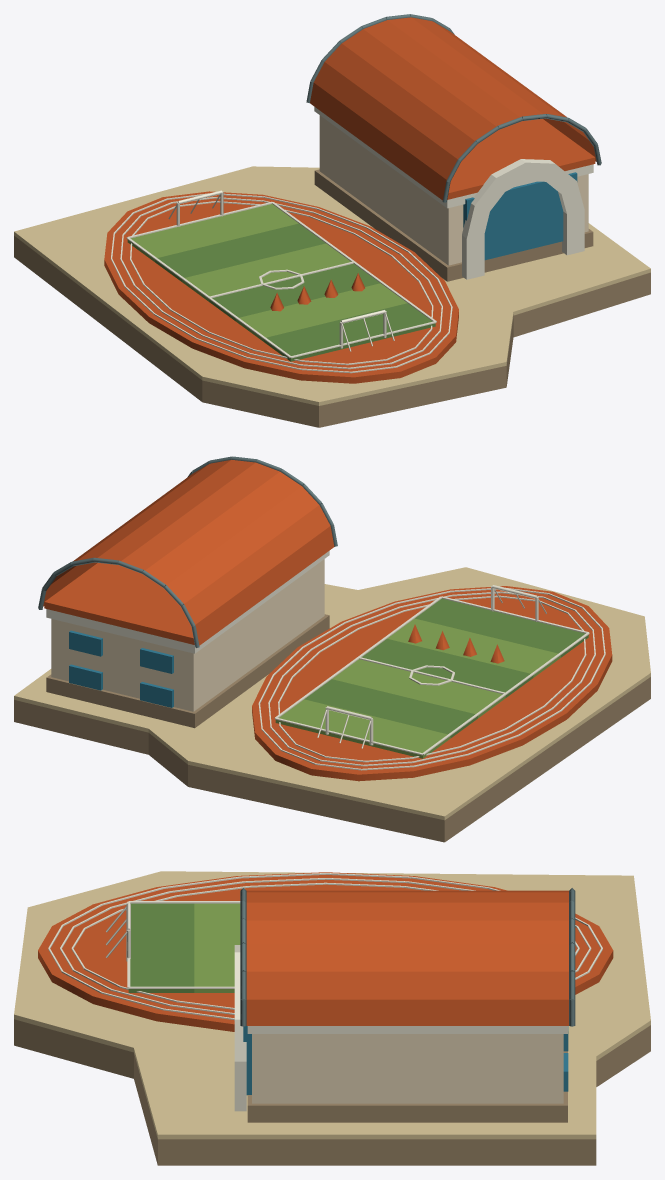
File: training-center-lv1.glb
The picture shows the model from 3 angles, top to bottom: view 1: azimuth 30°, elevation 25°; view 2: azimuth 150°, elevation 25°; view 3: azimuth 270°, elevation 25°; orthographic projection. The views are drawn at different scales.
Parts seen in each view (by area): view 1: foundation_sand, gym_barrel_roof_orange, running_track_orange, foundation_stoneDark, pitch_grassLight, pitch_grass, training_hall_cream, gym_front_arch_white, training_hall_roof_orange, running_lanes_white, gym_front_glass, training_hall_stoneDark (+5 smaller); view 2: foundation_sand, gym_barrel_roof_orange, running_track_orange, foundation_stoneDark, training_hall_cream, pitch_grass, pitch_grassLight, training_hall_roof_orange, running_lanes_white, training_hall_stoneDark, pitch_lines_white, training_hall_windows_glass (+4 smaller); view 3: gym_barrel_roof_orange, foundation_sand, training_hall_cream, foundation_stoneDark, running_track_orange, training_hall_stoneDark, pitch_grass, running_lanes_white, pitch_grassLight, training_hall_white, gym_barrel_roof_ribs_iron, gym_front_arch_white (+3 smaller).
Boxes of the visible parts, left/top/right/bottom form: foundation_sand: left=14, top=166, right=650, bottom=405; gym_barrel_roof_orange: left=310, top=17, right=596, bottom=200; running_track_orange: left=104, top=191, right=458, bottom=383; foundation_stoneDark: left=14, top=235, right=650, bottom=427; pitch_grassLight: left=127, top=204, right=407, bottom=341; pitch_grass: left=155, top=223, right=435, bottom=361; training_hall_cream: left=319, top=115, right=588, bottom=265; gym_front_arch_white: left=462, top=159, right=584, bottom=279; training_hall_roof_orange: left=447, top=119, right=595, bottom=199; running_lanes_white: left=110, top=193, right=452, bottom=373; gym_front_glass: left=463, top=172, right=577, bottom=260; training_hall_stoneDark: left=314, top=169, right=593, bottom=281; foundation_sand: left=14, top=567, right=650, bottom=820; gym_barrel_roof_orange: left=43, top=459, right=334, bottom=645; running_track_orange: left=252, top=586, right=612, bottom=781; foundation_stoneDark: left=14, top=677, right=650, bottom=842; training_hall_cream: left=51, top=559, right=324, bottom=711; pitch_grass: left=304, top=598, right=588, bottom=737; pitch_grassLight: left=275, top=618, right=560, bottom=758; training_hall_roof_orange: left=44, top=563, right=194, bottom=644; running_lanes_white: left=258, top=587, right=605, bottom=770; training_hall_stoneDark: left=46, top=614, right=329, bottom=728; pitch_lines_white: left=274, top=596, right=589, bottom=755; training_hall_windows_glass: left=69, top=630, right=173, bottom=707; gym_barrel_roof_orange: left=246, top=890, right=568, bottom=1025; foundation_sand: left=14, top=871, right=650, bottom=1139; training_hall_cream: left=252, top=1034, right=563, bottom=1103; foundation_stoneDark: left=14, top=1019, right=650, bottom=1165; running_track_orange: left=38, top=872, right=613, bottom=1031; training_hall_stoneDark: left=247, top=1051, right=567, bottom=1122; pitch_grass: left=128, top=903, right=194, bottom=992; running_lanes_white: left=48, top=873, right=602, bottom=1020; pitch_grassLight: left=194, top=903, right=240, bottom=992; training_hall_white: left=247, top=1026, right=567, bottom=1033; gym_barrel_roof_ribs_iron: left=240, top=888, right=575, bottom=1026; gym_front_arch_white: left=234, top=945, right=246, bottom=1111.
Size of the model in its own units: 0.9785 by 0.365 by 1.
